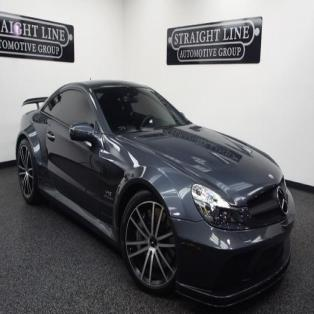Auto: (16, 80, 296, 306)
